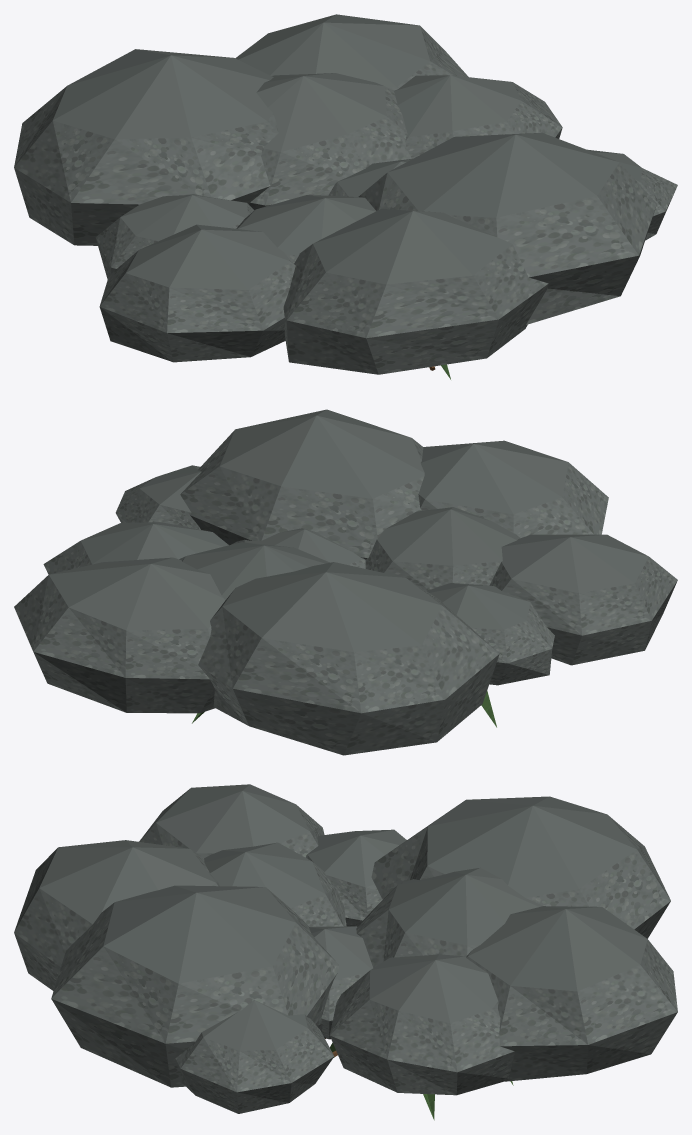
Rendered from en-005_beach_stone_cluster__large.obj.
The picture shows the model from 3 angles, top to bottom: view 1: azimuth 30°, elevation 25°; view 2: azimuth 150°, elevation 25°; view 3: azimuth 270°, elevation 25°; orthographic projection. The views are drawn at different scales.
Parts seen in each view (by area): view 1: en-005_beach_stone_cluster__large; view 2: en-005_beach_stone_cluster__large; view 3: en-005_beach_stone_cluster__large.
Part boxes in pixels (bbox=[...]): en-005_beach_stone_cluster__large: bbox=[14, 14, 677, 379]; en-005_beach_stone_cluster__large: bbox=[14, 409, 677, 755]; en-005_beach_stone_cluster__large: bbox=[14, 784, 677, 1120].
Bounding box in the file's own units: 1.65 × 0.569 × 1.66.
4 materials, 4 textured.
